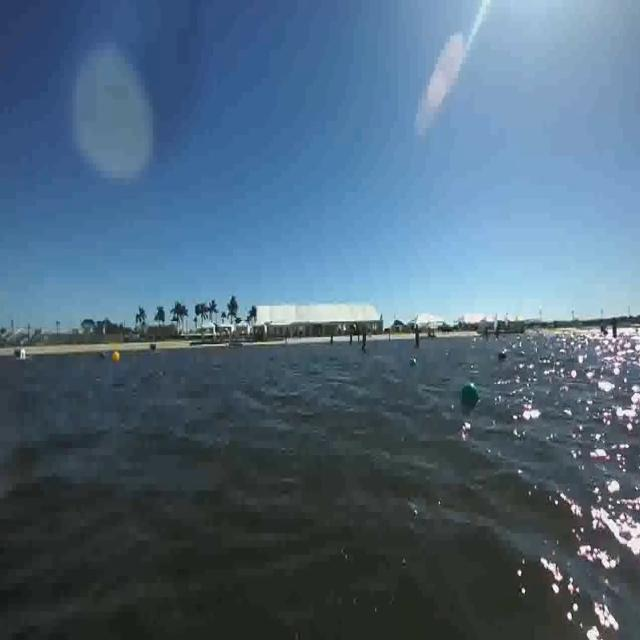green-buoy: (464, 382, 481, 403)
